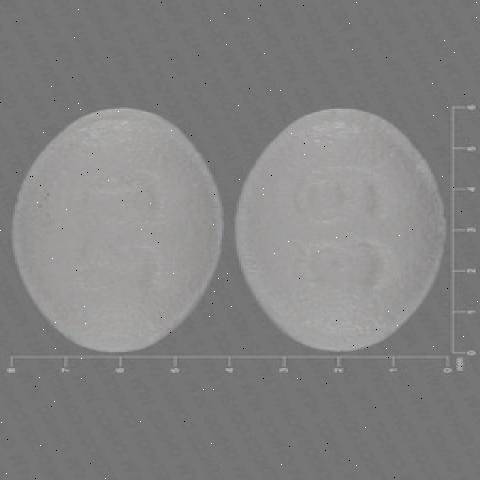Pill: (225, 45, 458, 384), (7, 72, 232, 384)
